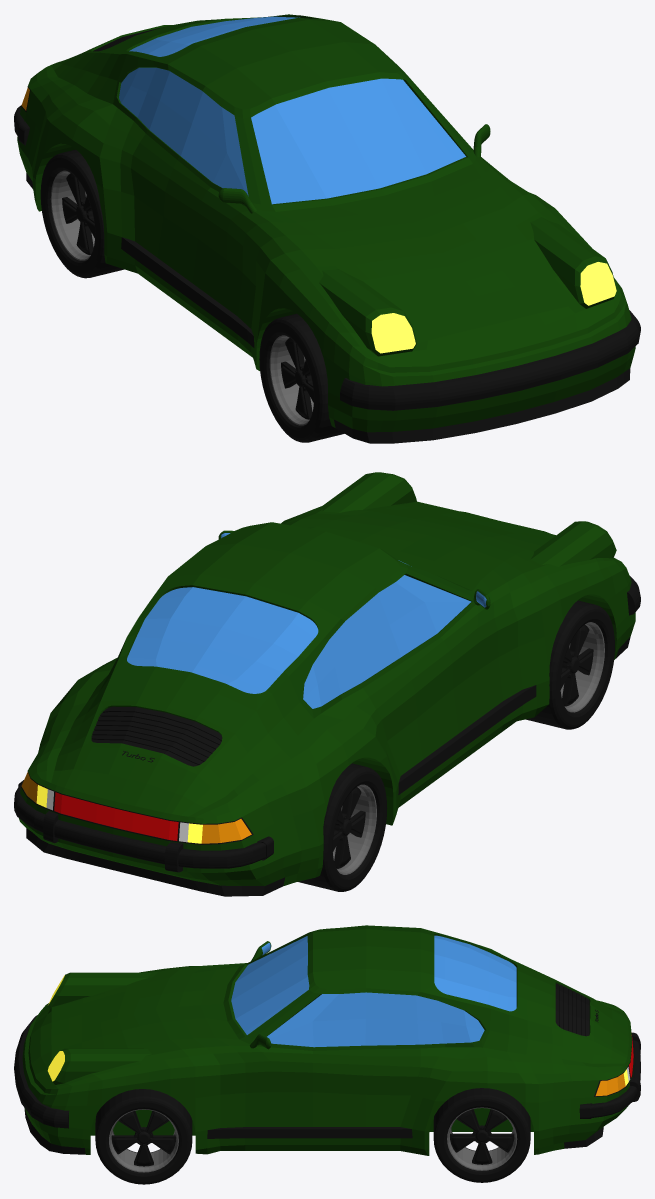
File: 911-old.glb
3 views of the same model, one above another, from view 1: azimuth 30°, elevation 25°; view 2: azimuth 150°, elevation 25°; view 3: azimuth 270°, elevation 25° (orthographic). The views are drawn at different scales.
Parts seen in each view (by area): view 1: 911, 911-FR, 911-RR; view 2: 911, 911-FR, 911-RR; view 3: 911, 911-FL, 911-RL.
Part boxes in pixels (bbox=[...]): 911: bbox=[14, 14, 640, 443]; 911-FR: bbox=[259, 313, 344, 442]; 911-RR: bbox=[40, 149, 124, 278]; 911: bbox=[14, 472, 640, 896]; 911-FR: bbox=[525, 600, 614, 729]; 911-RR: bbox=[298, 763, 387, 891]; 911: bbox=[14, 925, 640, 1155]; 911-FL: bbox=[95, 1089, 192, 1184]; 911-RL: bbox=[433, 1088, 530, 1182].
Bounding box in the file's own units: 1.7 × 1.34 × 4.11.
